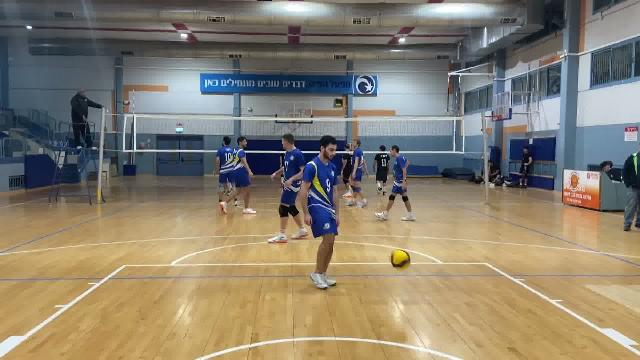ball: (384, 246, 415, 270)
